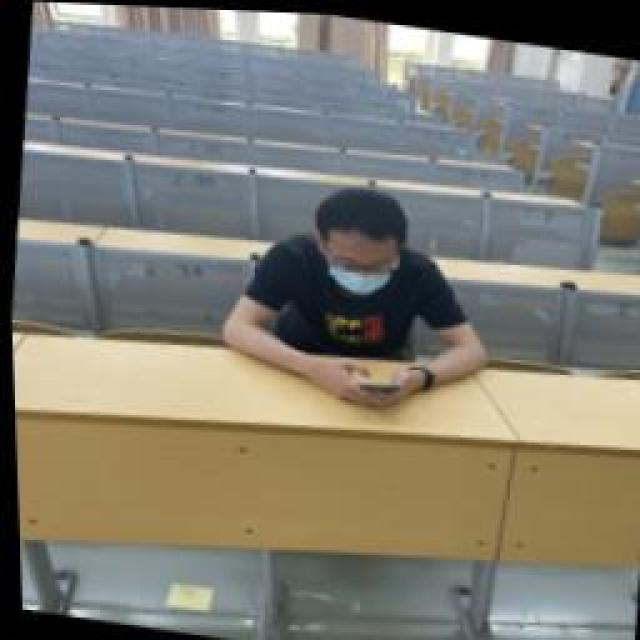phone: (210, 165, 502, 417)
